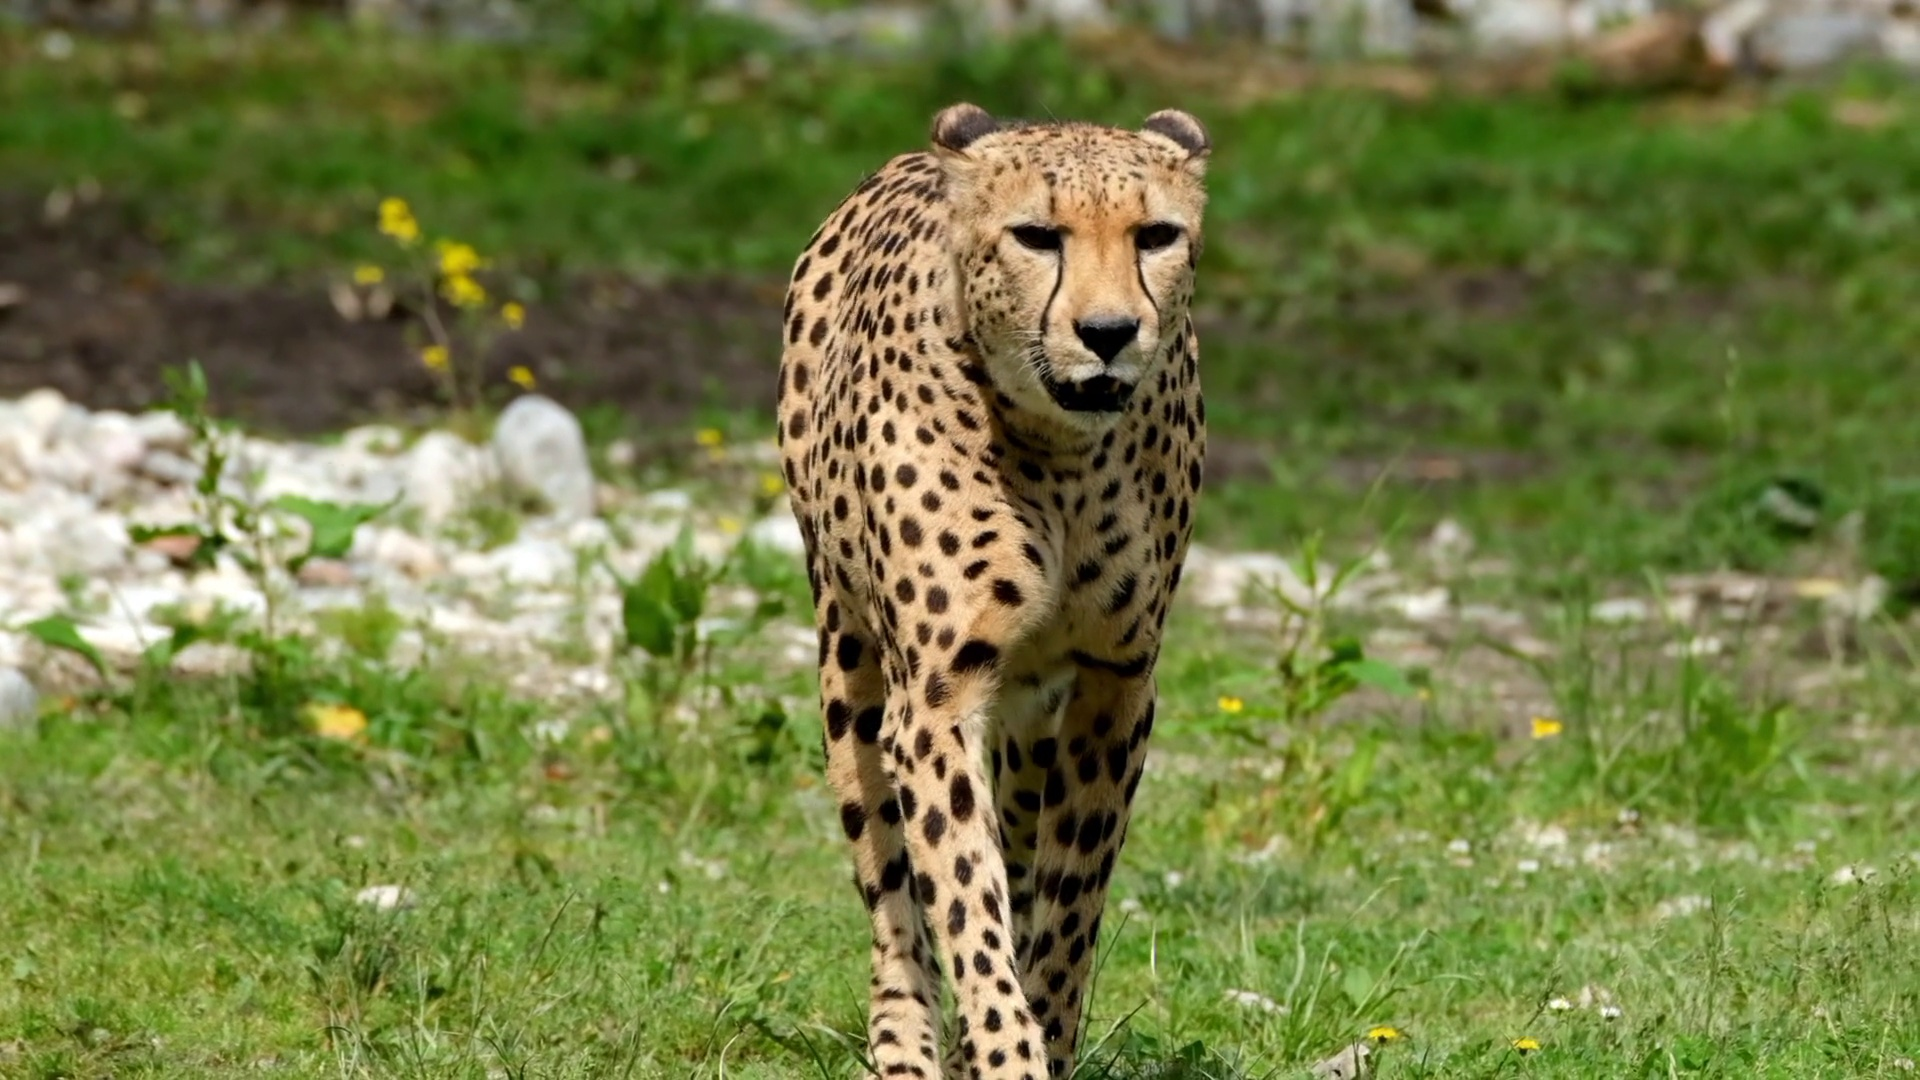Cheetah: (771, 94, 1207, 1080)
